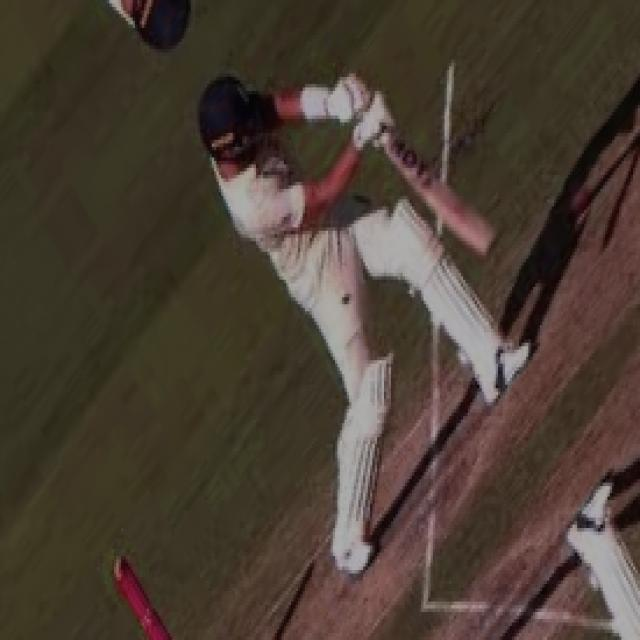bat: (374, 143, 517, 259)
toe: (482, 234, 502, 258)
